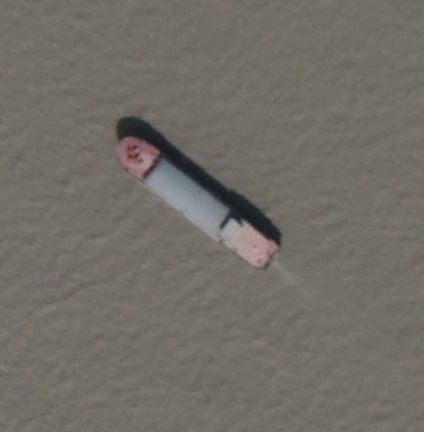boat: (111, 133, 283, 276)
